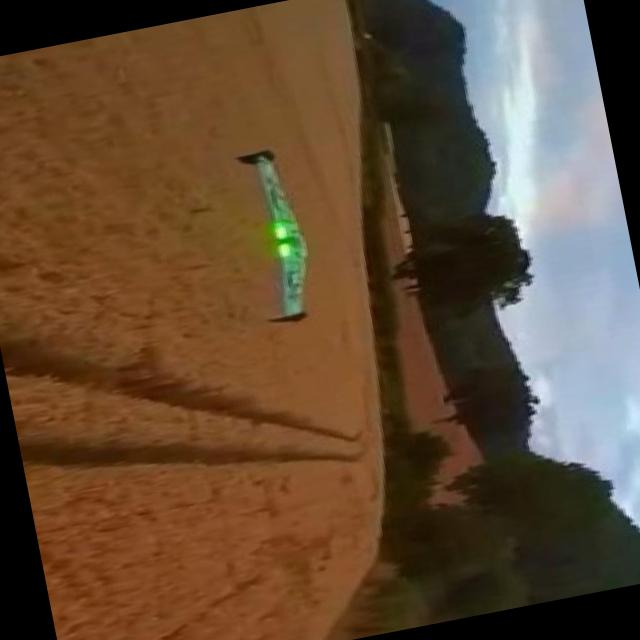UAV: (214, 124, 333, 367)
